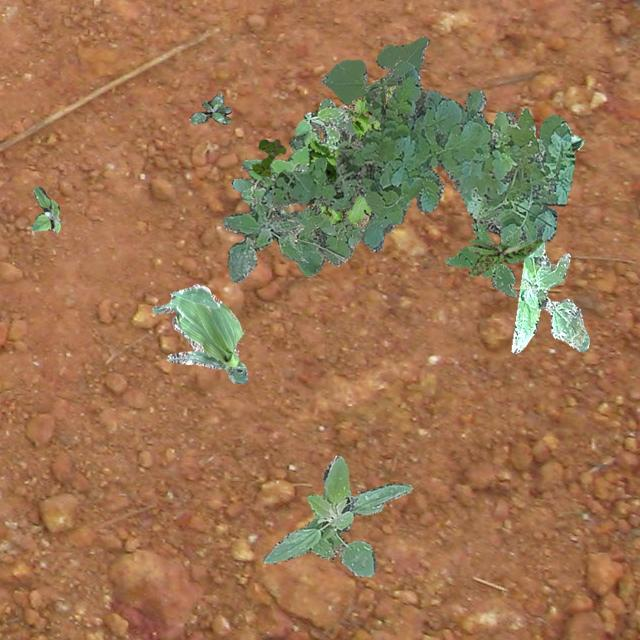crop: (152, 282, 246, 382), (320, 36, 428, 104), (536, 134, 582, 152)
weed: (270, 60, 574, 252), (230, 97, 376, 276), (262, 454, 411, 576), (240, 104, 348, 245), (306, 82, 396, 226), (511, 240, 588, 352), (220, 184, 306, 282), (444, 222, 534, 296), (470, 110, 516, 236), (468, 236, 542, 276), (30, 186, 60, 232), (250, 138, 284, 176), (188, 94, 230, 124)
